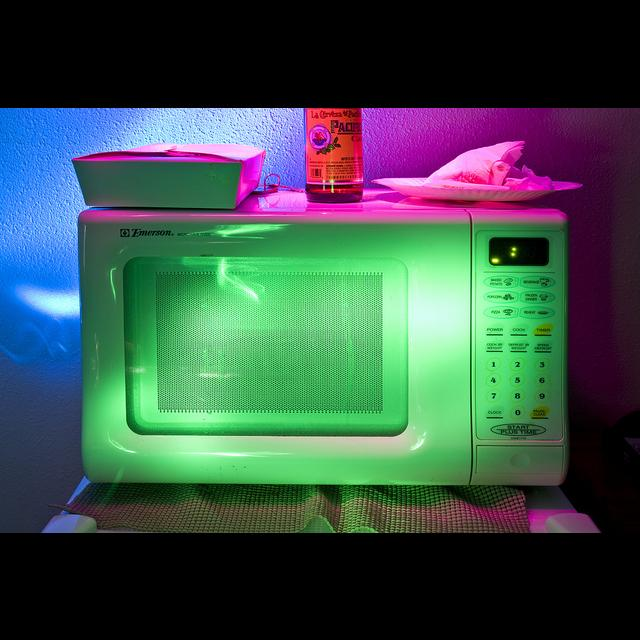Microwave: (80, 188, 571, 488)
